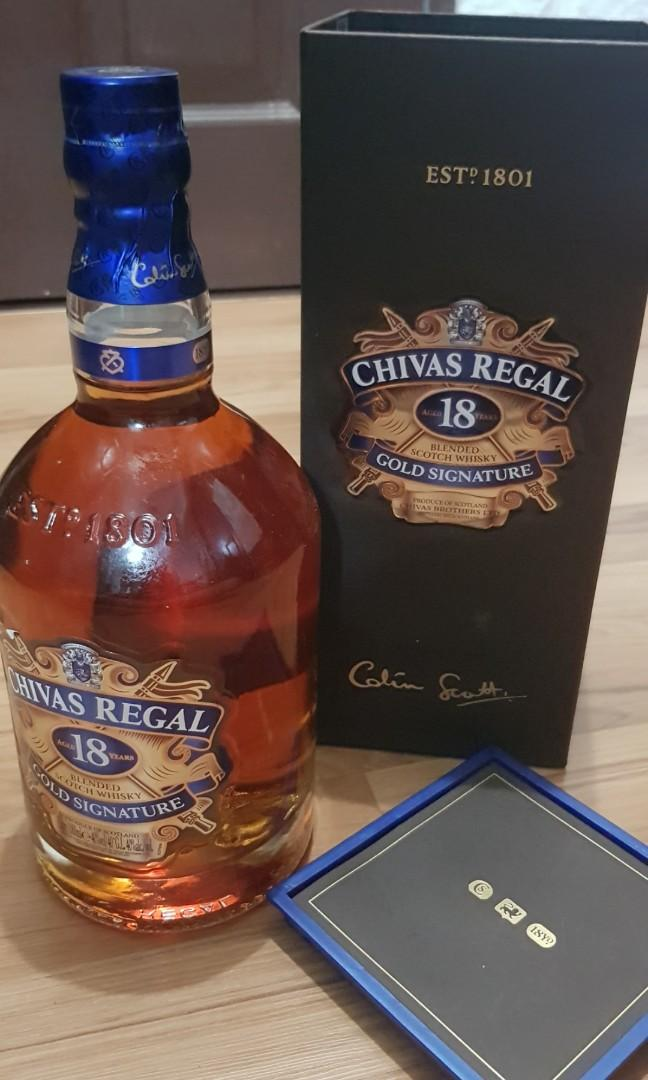Chivas Regal: (2, 59, 331, 944)
